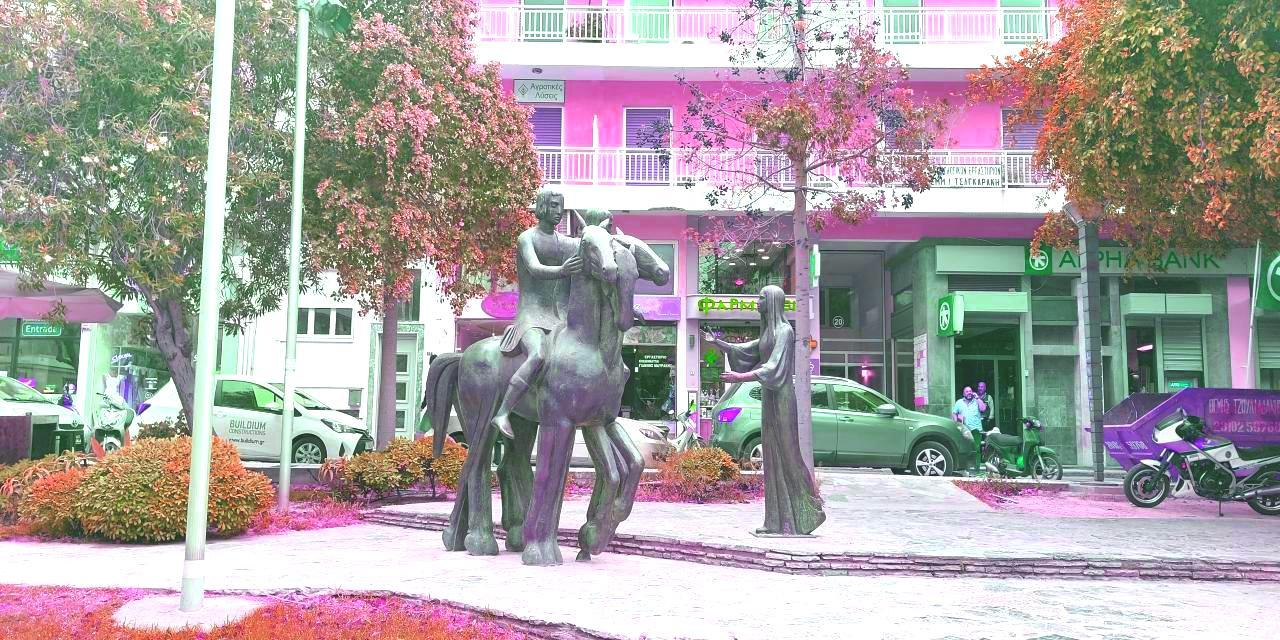Aretousa: (426, 188, 827, 568)
